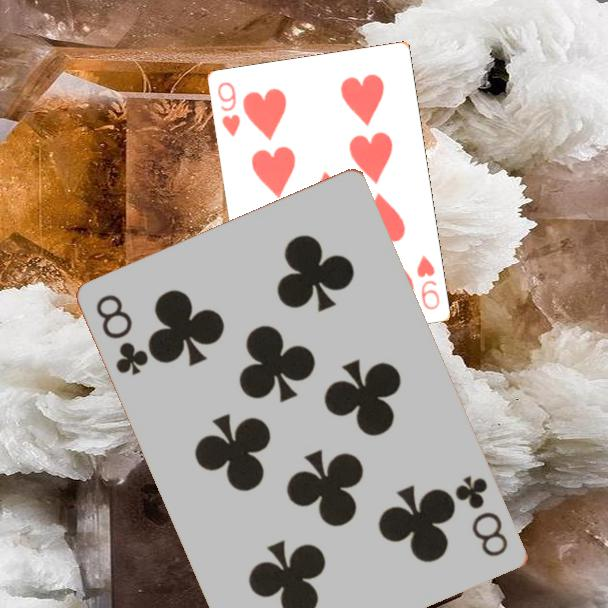c08: (452, 472, 512, 560), (93, 291, 152, 378)
h09: (414, 252, 443, 313), (214, 79, 243, 140)
